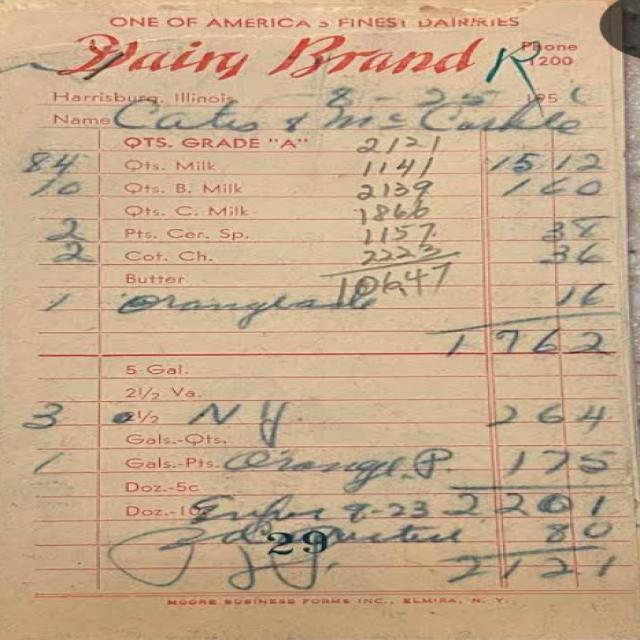items: (4, 122, 633, 306)
shop: (29, 28, 514, 91)
tot: (399, 327, 627, 366)
